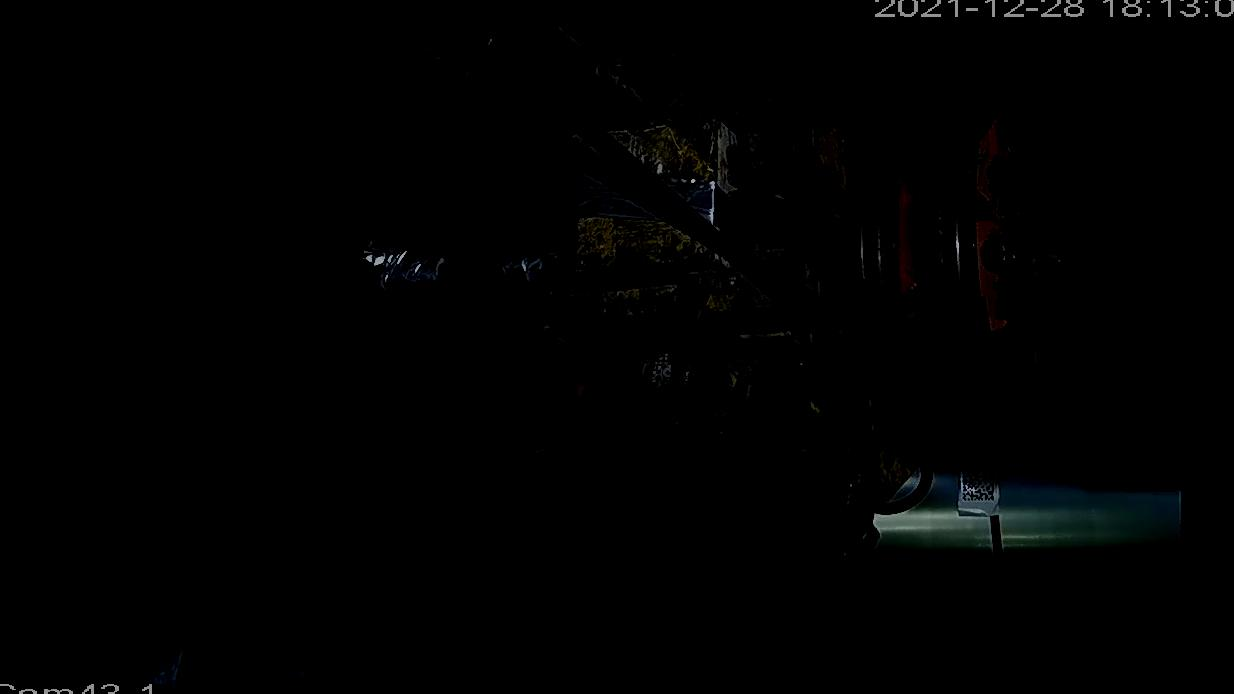data matrix: (960, 467, 997, 505)
